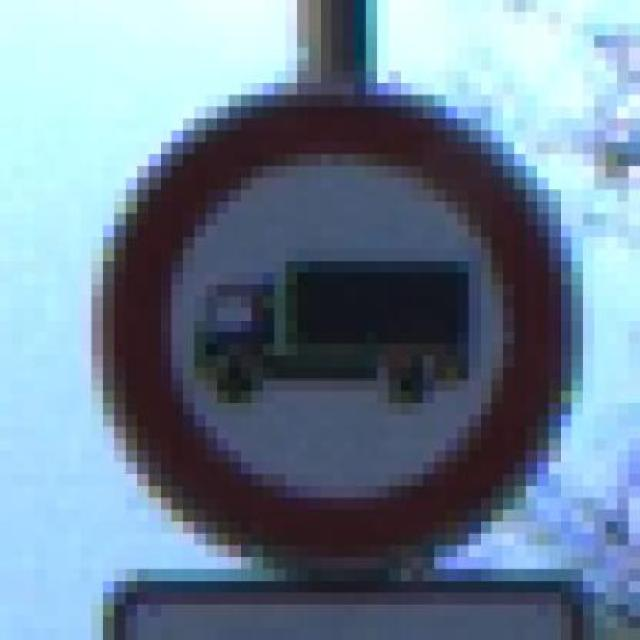Truck traffic is prohibited: (80, 58, 606, 570)
